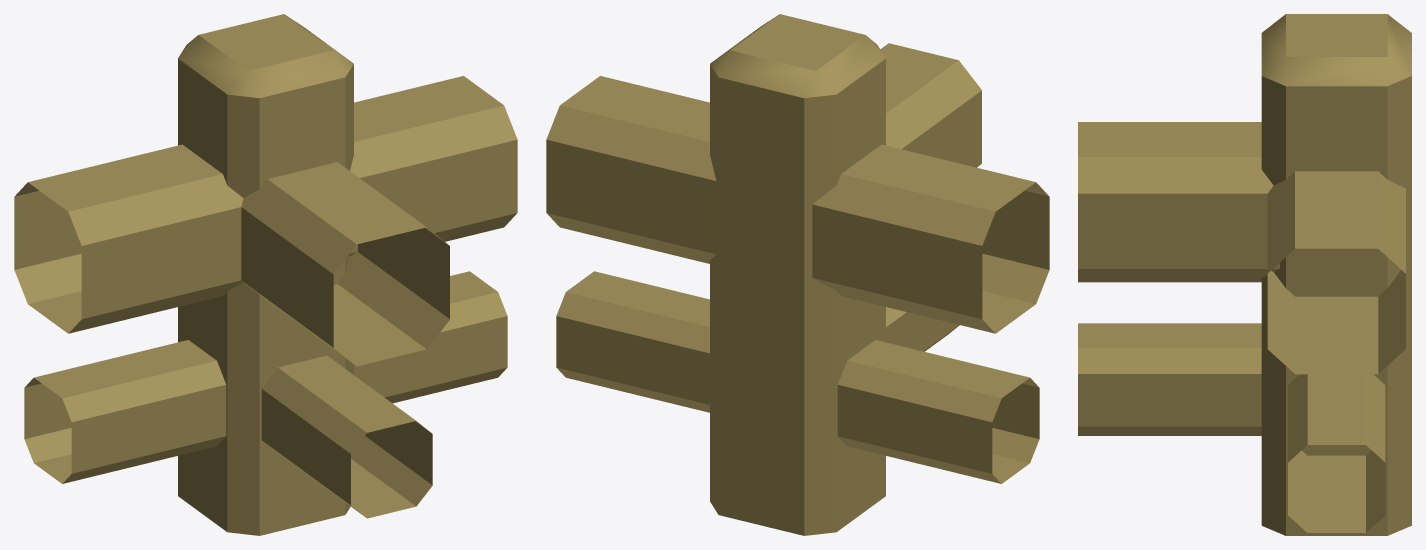
Rendered from quaternius-cube-world-fence-t.glb.
3 renders of one model, left to right at view 1: azimuth 30°, elevation 25°; view 2: azimuth 150°, elevation 25°; view 3: azimuth 270°, elevation 25°, orthographic. The views are drawn at different scales.
Visible parts, largest first — view 1: Fence_T; view 2: Fence_T; view 3: Fence_T.
Boxes of the visible parts, x1,y1,x2,y2 form: Fence_T: [14, 14, 517, 535]; Fence_T: [546, 14, 1049, 535]; Fence_T: [1078, 14, 1411, 535].
Bounding box in the file's own units: 2 × 2 × 1.29.
Materials: 1 (1 with a texture image).
